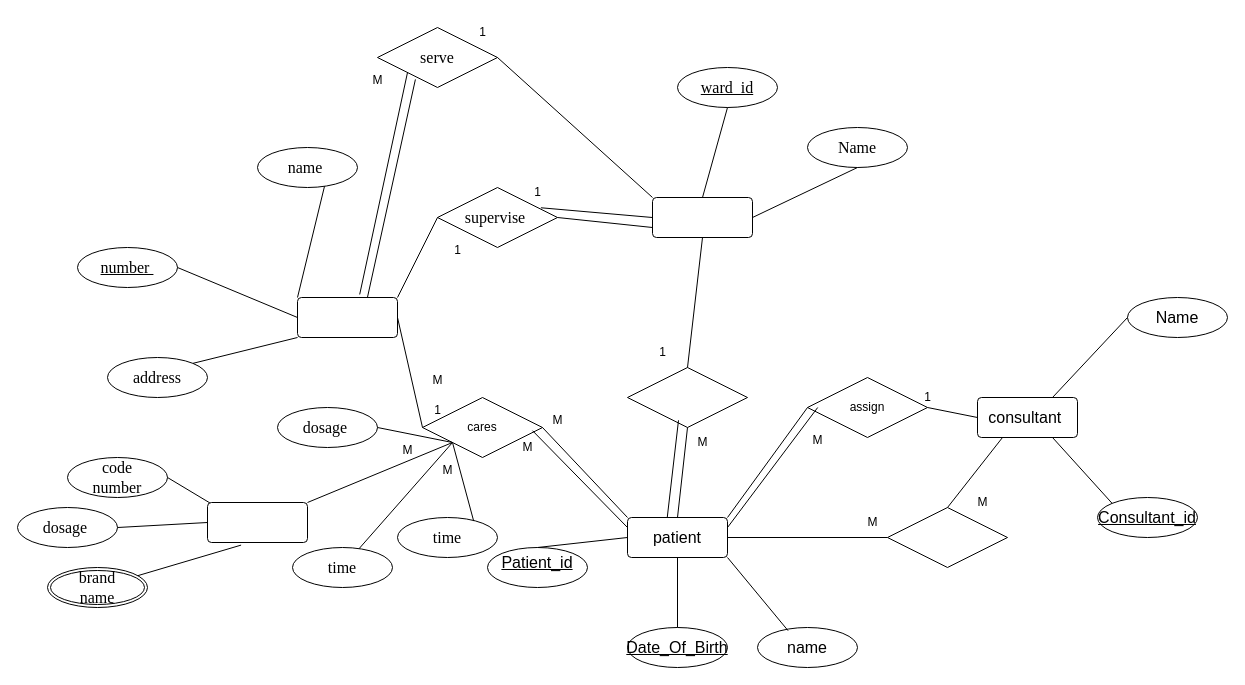
Image size: 1245x685. Some labels were removed from this diagram. Each missing label, with the centre of its shape:
"drug" belongs at [257,522].
"examin" belongs at [947,537].
"host" belongs at [687,397].
"nurse" belongs at [347,317].
"ward" belongs at [702,217].
